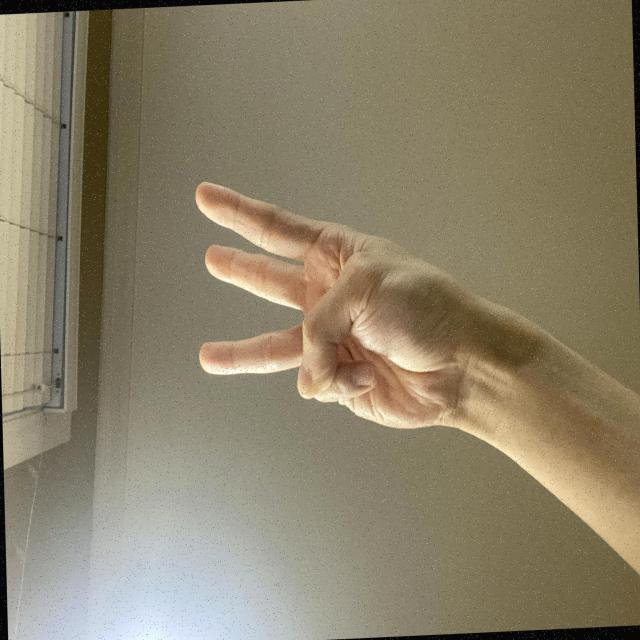W: (143, 246, 367, 640)
